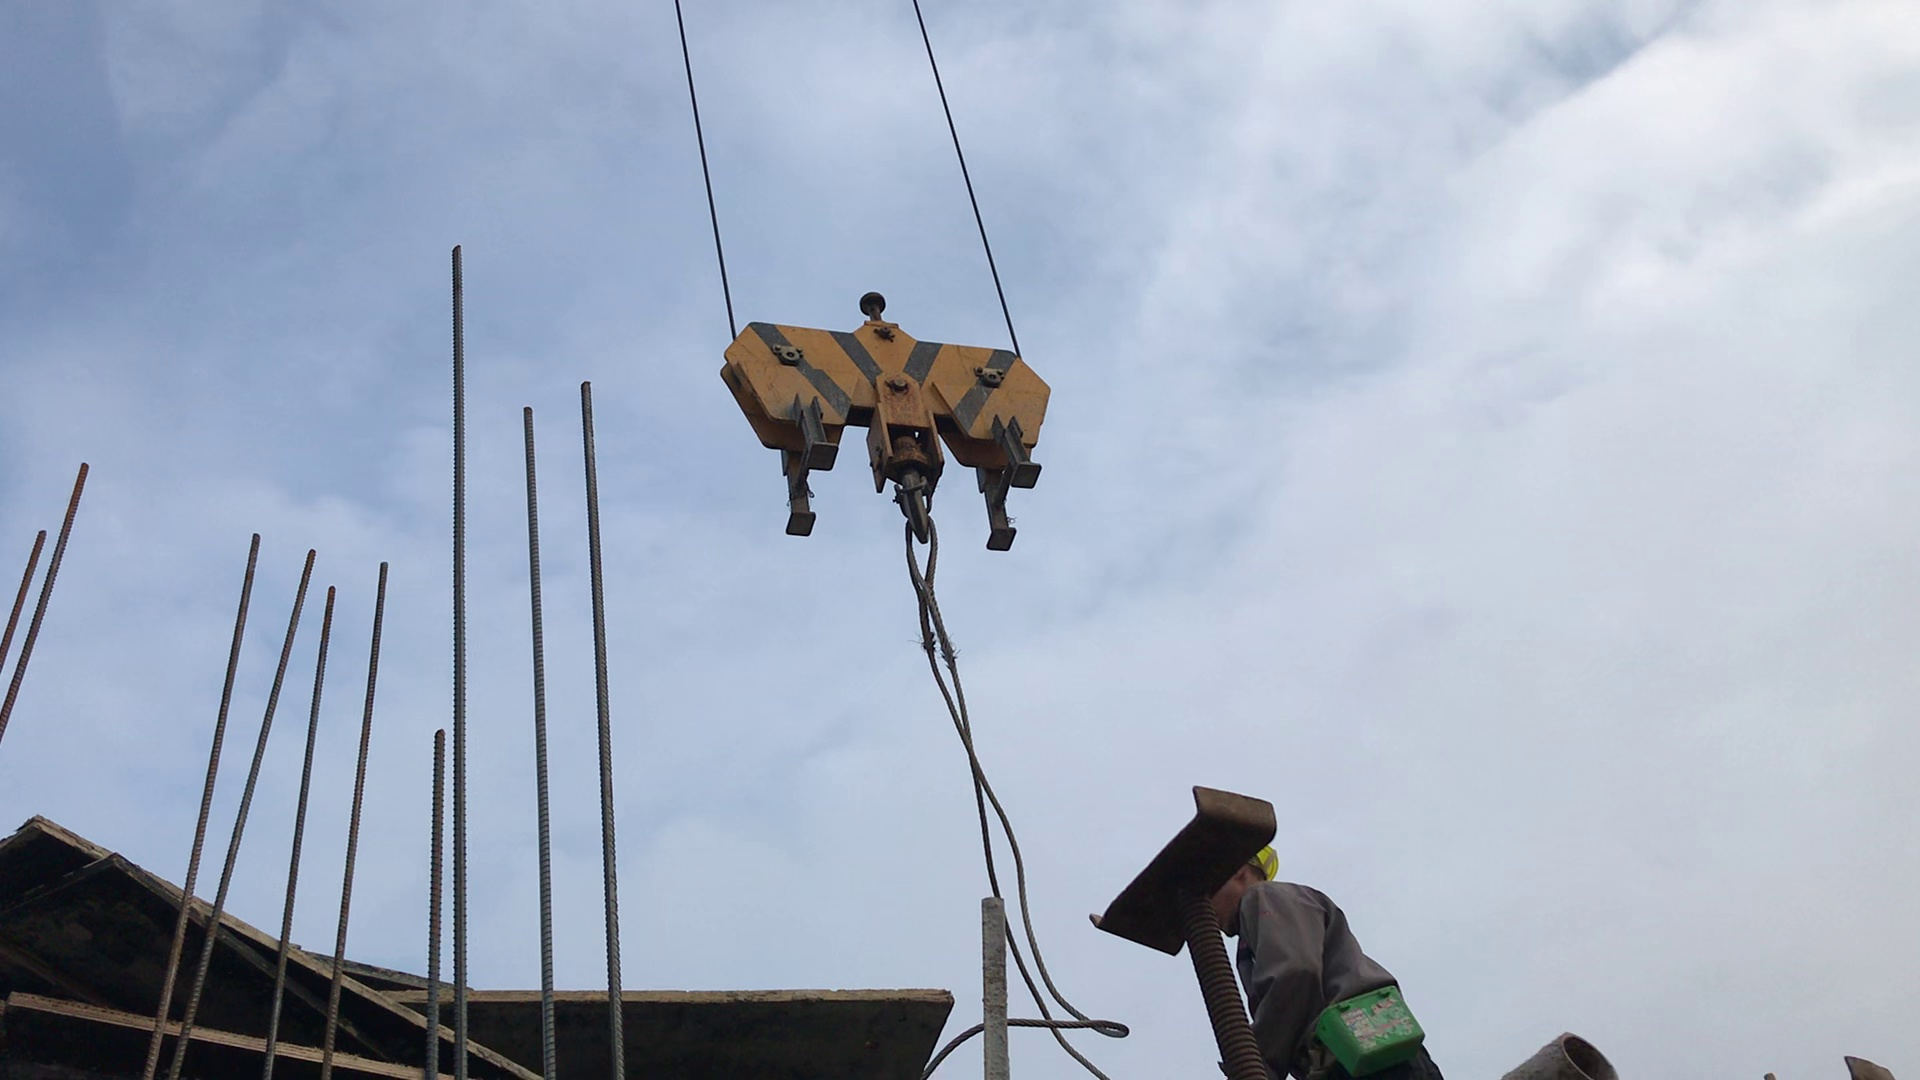hook: (710, 285, 1070, 560)
person: (1203, 836, 1447, 1080)
rebar: (1, 208, 671, 1069)
